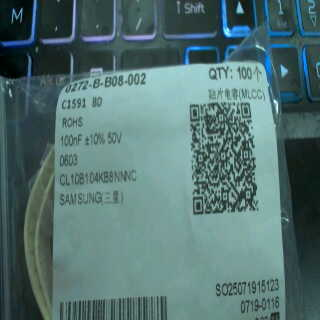100nF: (56, 130, 82, 152)
